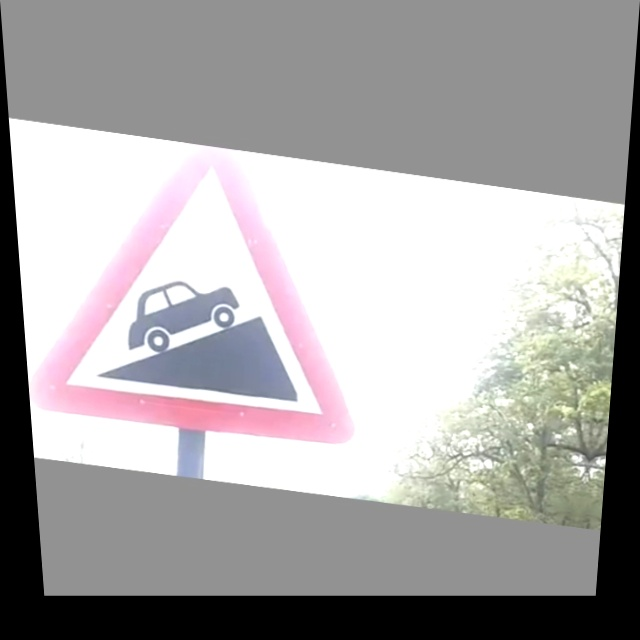Steep_Ascent: (41, 166, 366, 447)
